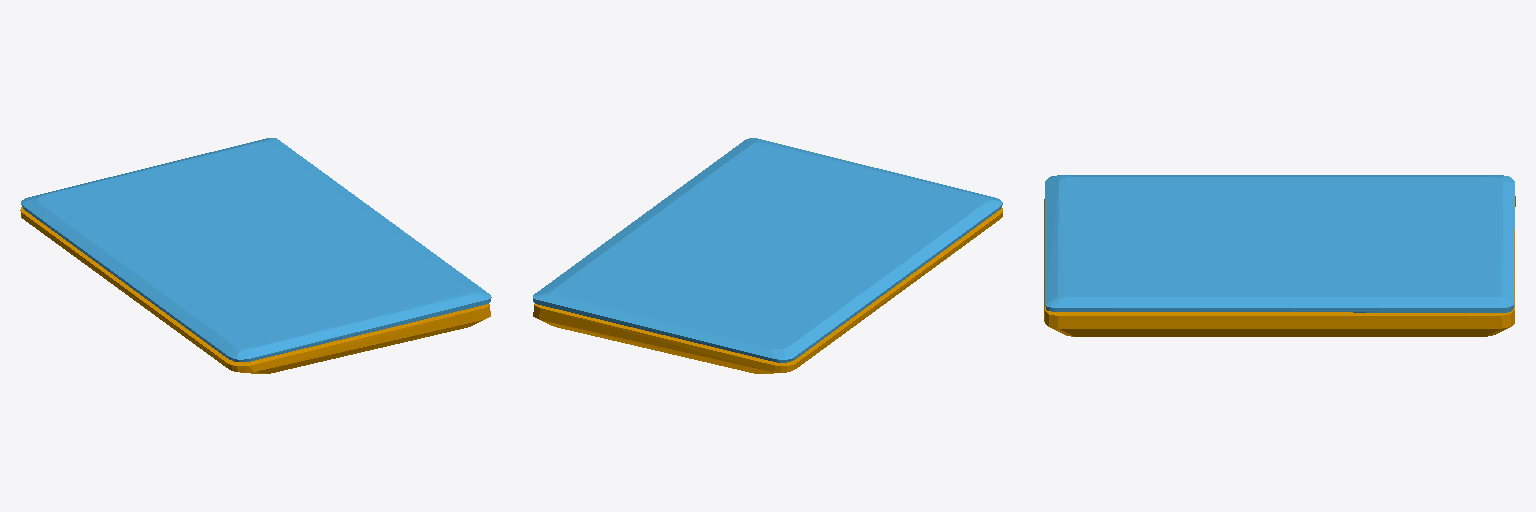
URDF robot description (kitchen.urdf):
<?xml version="1.0" ?>

<robot name="kitchen.urdf">
  <material name="T_marble">
    <texture filename="textures/marble1.png"/>
  </material>
  <material name="T_metal">
    <texture filename="textures/metal1.png"/>
  </material>
  <material name="wall_white">
    <color rgba="1 1 1 1"/>
  </material>
  <material name="wall_blue">
    <color rgba=".66 .7 .8 1"/>
  </material>
  <material name="wall_collision_blue">
    <color rgba="0.3 0.3 1.0 0.5"/>
  </material>

  <material name="counter_metal" rgba="1 1 1 1" texture="T_counter_metal" texrepeat="3 3" reflectance=".5" shininess="1" texuniform="false" />
  <material name="counter_marble"  texture="T_counter_marble" texrepeat="1 1" reflectance=".2" shininess="1" texuniform="false" />
  <material name="counter_black" rgba=".2 .2 .2 1" reflectance="1" shininess="1"  />
  <material name="counter_blue" rgba=".46 .5 .6 1" reflectance="1" shininess="1"  />
  <material name="counter_collision_blue" rgba="0.3 0.3 1.0 0.5" shininess="0" specular="0" />
  
  <link name="base_link">
    <inertial>
      <mass value="5"/>
      <inertia ixx="1" ixy="0" ixz="0" iyy="1" iyz="0" izz="1"/>
    </inertial>
    <visual>
      <origin xyz="0 0 0.35" rpy = "0 0 0"/>
      <geometry>
			  <mesh filename="body_visual.dae"/>
      </geometry>
      <material name="Dark Grey"/>
    </visual>
    <collision>
      <origin xyz="0 0 .35" rpy = "0 0 0"/>
      <geometry>
			  <mesh filename="body_visual.dae"/>
      </geometry>
    </collision>
  </link>
  <link name="screen_link">
    <inertial>
      <mass value="5"/>
      <inertia ixx="1" ixy="0" ixz="0" iyy="1" iyz="0" izz="1"/>
    </inertial>
    <visual>
      <origin xyz="-1.1 0 0" rpy="0 0 0"/>
      <geometry>
			  <mesh filename="screen_visual.dae"/>
      </geometry>
      <material name="Light Grey"/>
    </visual>
    <collision>
      <origin xyz="-1.1 0 0" rpy="0 0 0"/>
      <geometry>
			  <mesh filename="screen_visual.dae"/>
      </geometry>
    </collision>
  </link>
  <joint name="hinge" type="revolute">
      <parent link="base_link"/>
      <child link="screen_link"/>
      <origin xyz="1.1 0 .5" rpy="0 0 0"/>
      <axis xyz="0 1 0"/>
      <limit lower="-.2" upper="1.7" effort="100" velocity="100"/>
  </joint>
</robot>

--- What the picture shows (computed from the rendered views, not written in the file) ---
Views: 3 orthographic renders of the robot side by side, from view 1: azimuth 30°, elevation 25°; view 2: azimuth 150°, elevation 25°; view 3: azimuth 270°, elevation 25°.
Model kitchen.urdf with 2 links and 1 joints (1 revolute), rooted at base_link, posed every joint at zero.
Visible links, largest first — view 1: screen_link, base_link; view 2: screen_link, base_link; view 3: screen_link, base_link.
Boxes of the visible links, box(x1,y1,x2,y2) form: screen_link: box(21, 138, 491, 361); base_link: box(20, 207, 490, 373); screen_link: box(533, 138, 1002, 362); base_link: box(533, 207, 1002, 373); screen_link: box(1045, 175, 1514, 312); base_link: box(1044, 196, 1515, 336).
Size in the robot's own frame: 2.22 by 3.27 by 0.28 metres.
Meshes: 2 distinct files referenced, 2 mesh visuals loaded (2 Collada DAE).
